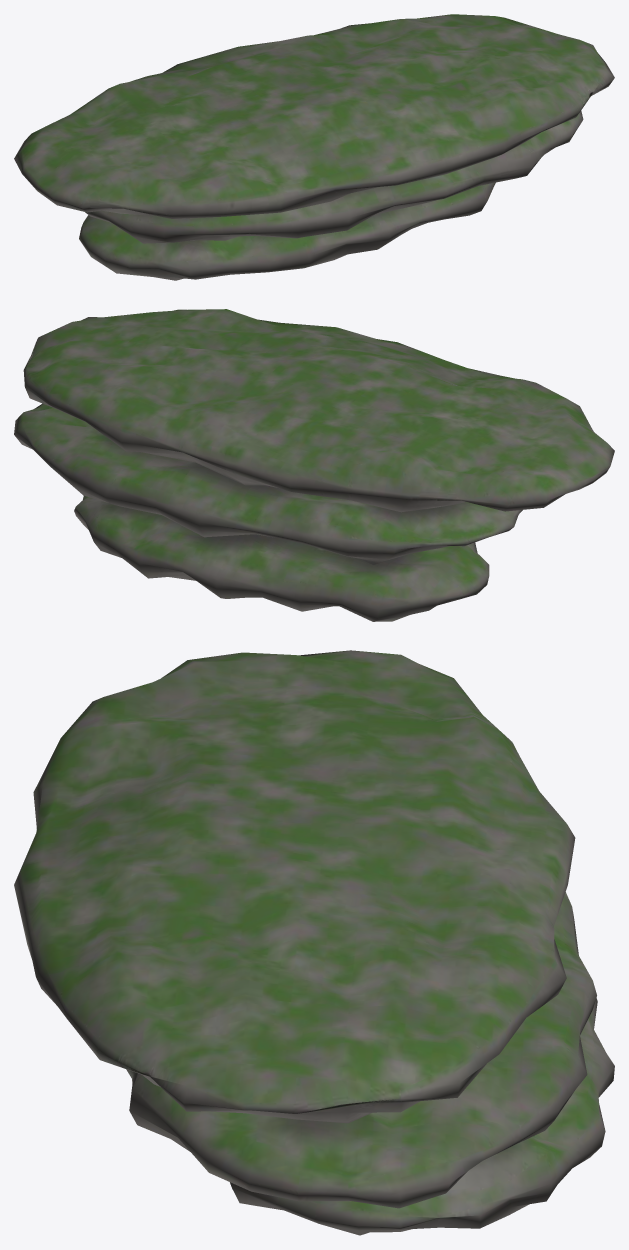
File: overhang.glb
3 views of the same model, one above another, from view 1: azimuth 30°, elevation 25°; view 2: azimuth 150°, elevation 25°; view 3: azimuth 270°, elevation 25° (orthographic). The views are drawn at different scales.
Parts seen in each view (by area): view 1: Overhang; view 2: Overhang; view 3: Overhang.
Boxes of the visible parts, x1,y1,x2,y2 form: Overhang: (14, 14, 614, 280); Overhang: (14, 309, 614, 621); Overhang: (14, 650, 614, 1235).
Size of the model in its own units: 8.31 by 2.49 by 4.6.
Materials: 1 (1 with a texture image).
